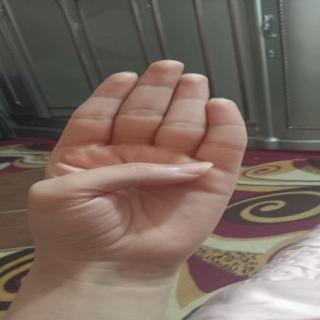KAAF: (37, 55, 250, 254)
